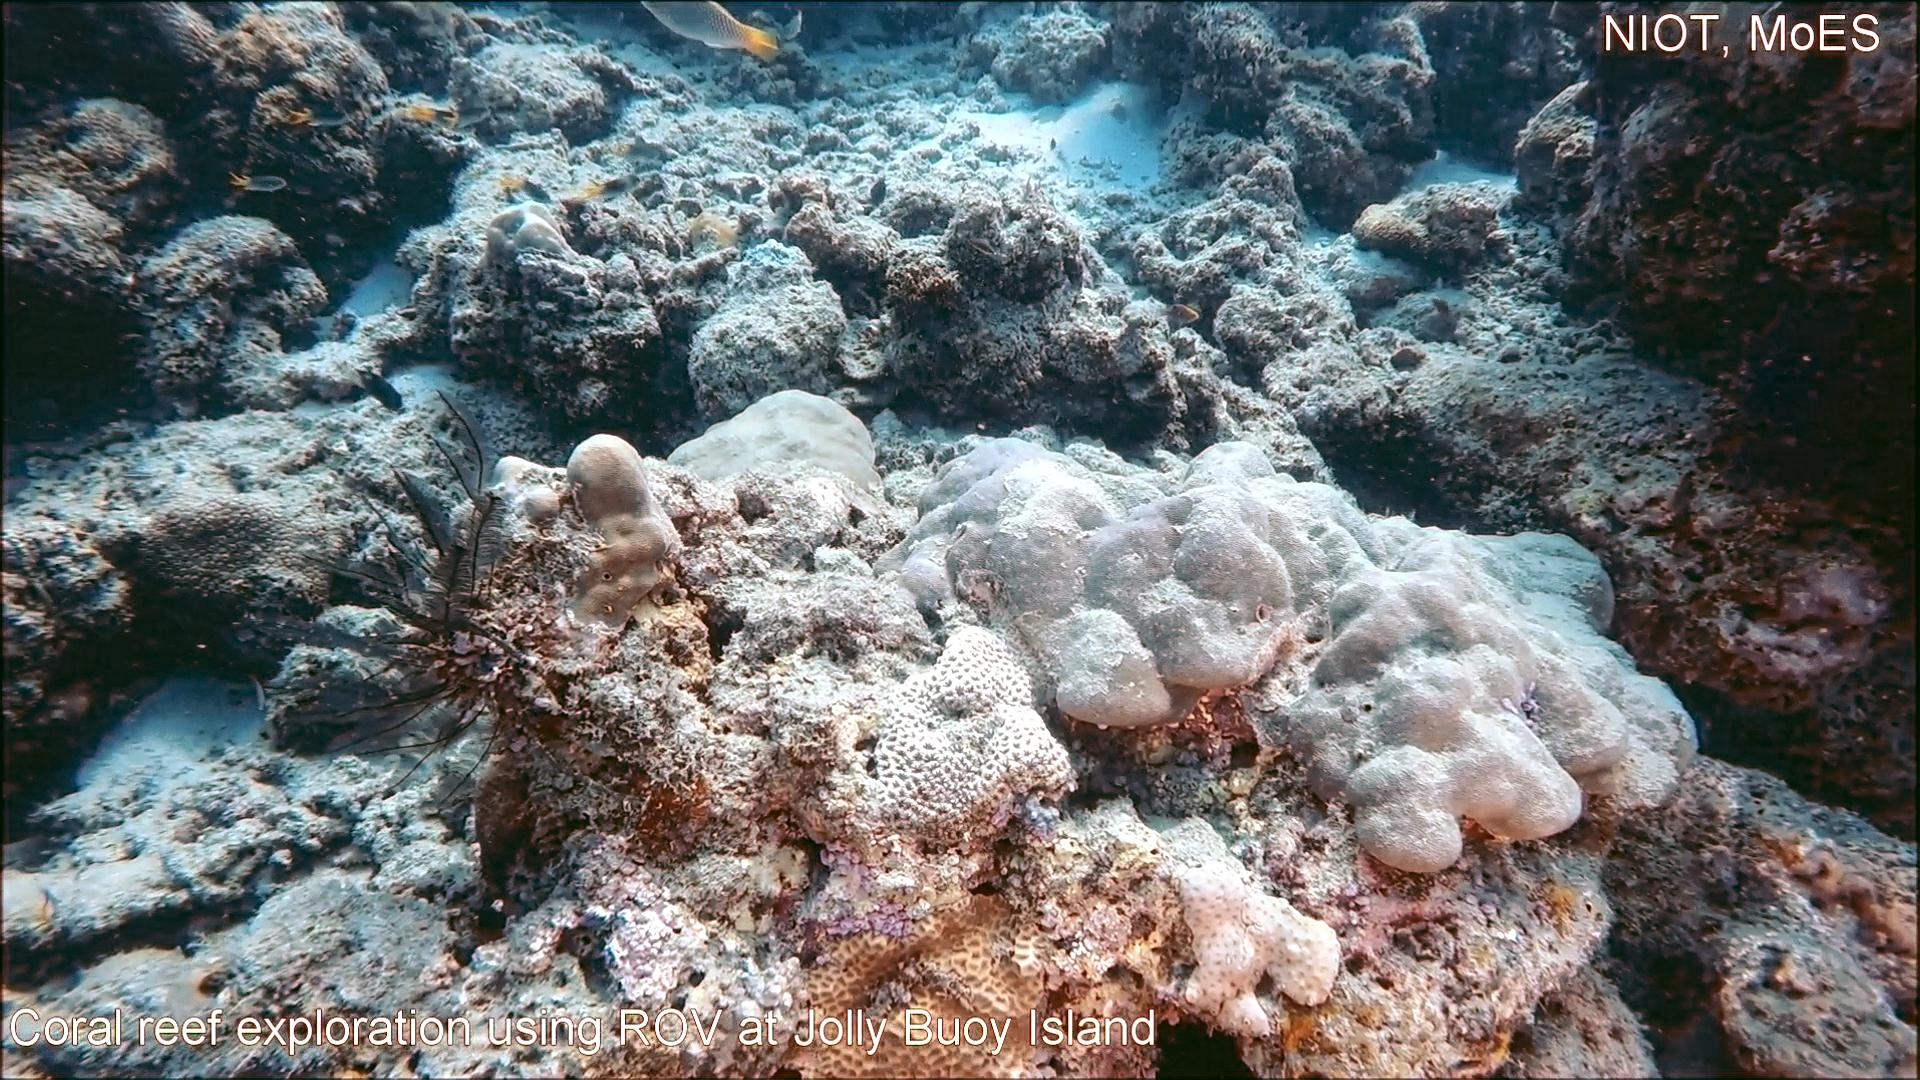Feather star-Crinoid star: (251, 385, 545, 810)
Goniastrea-Goniastrea pectinata: (868, 615, 1081, 853)
Porites-Porites pukoensis: (1168, 433, 1705, 882)
Turbinaria-Turbinaria stellulata: (124, 488, 352, 626)
